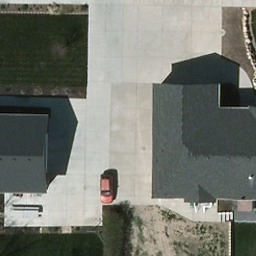car: (101, 174, 114, 205)
